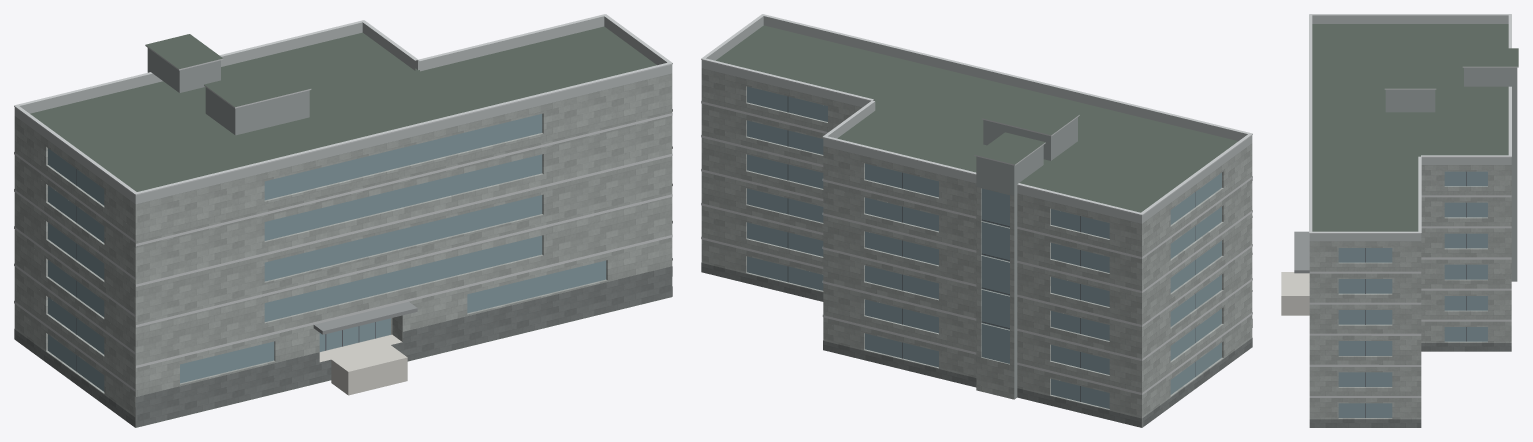
3 views of the same model, side by side, from view 1: azimuth 30°, elevation 25°; view 2: azimuth 150°, elevation 25°; view 3: azimuth 270°, elevation 25° (orthographic). The views are drawn at different scales.
Parts seen in each view (by area): view 1: b150__wall, b150__roof, b150__glass, b150__base, b150__trim, b150__parapet, b150__wall2, b150__entranceStair, b150__canopy; view 2: b150__wall, b150__roof, b150__glass, b150__trim, b150__parapet, b150__base, b150__wall2, b150__frame; view 3: b150__roof, b150__wall, b150__glass, b150__trim, b150__wall2, b150__parapet, b150__base, b150__entranceStair, b150__canopy.
Part boxes in pixels (x1,y1,x2,y2): b150__wall: (14,73,672,427); b150__roof: (30,26,671,427); b150__glass: (48,114,606,391); b150__base: (14,266,672,427); b150__trim: (14,14,672,391); b150__parapet: (14,16,672,204); b150__wall2: (147,48,309,135); b150__entranceStair: (319,334,407,395); b150__canopy: (313,301,417,334); b150__wall: (701,68,1252,427); b150__roof: (716,25,1238,212); b150__glass: (747,86,1221,408); b150__trim: (701,14,1252,394); b150__parapet: (701,16,1252,223); b150__base: (701,262,1252,427); b150__wall2: (976,117,1077,399); b150__frame: (787,96,1195,401); b150__roof: (1312,24,1518,231); b150__wall: (1309,165,1511,419); b150__glass: (1338,171,1487,417); b150__trim: (1309,14,1518,397); b150__wall2: (1385,67,1517,281); b150__parapet: (1309,15,1511,241); b150__base: (1309,343,1511,427); b150__entranceStair: (1281,272,1309,315); b150__canopy: (1294,231,1309,273).
Bounding box in the file's own units: 54.43 × 25.29 × 24.93.
11 materials, 2 textured.
